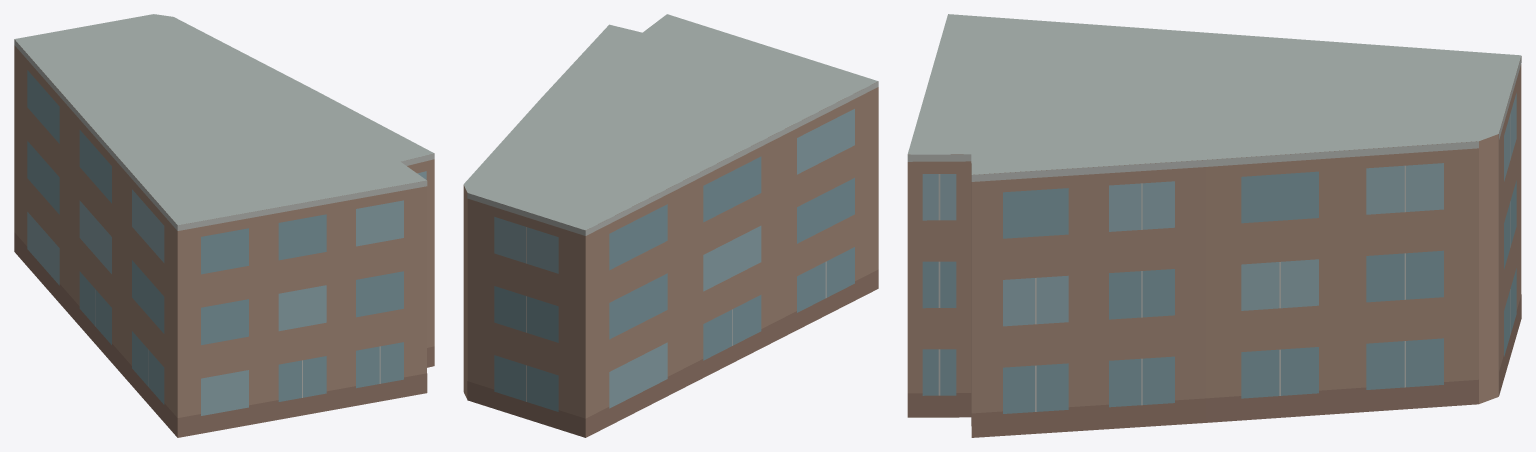
File: survey-upis-32753495.glb
3 renders of one model, left to right at view 1: azimuth 30°, elevation 25°; view 2: azimuth 150°, elevation 25°; view 3: azimuth 270°, elevation 25°, orthographic. The views are drawn at different scales.
Visible parts, largest first — view 1: survey-upis-32753495.tmp; view 2: survey-upis-32753495.tmp; view 3: survey-upis-32753495.tmp.
Boxes of the visible parts, x1=… form: survey-upis-32753495.tmp: x1=14, y1=14, x2=434, y2=437; survey-upis-32753495.tmp: x1=463, y1=14, x2=878, y2=437; survey-upis-32753495.tmp: x1=907, y1=14, x2=1521, y2=437.
Size of the model in its own units: 11.82 by 9 by 19.06.
